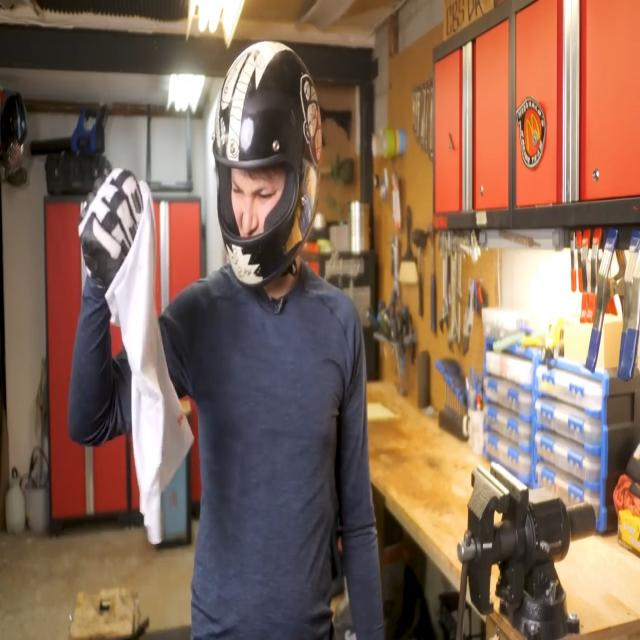Helmet_Wearer: (202, 27, 320, 290)
Person: (83, 32, 388, 637)
